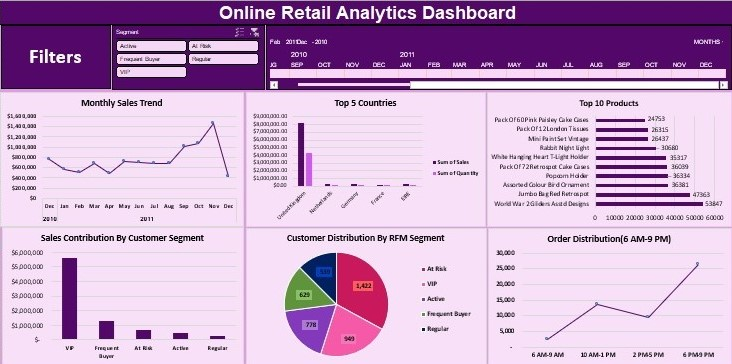

The dashboard page shown, as its layout file describes it:
{"tool":"powerbi","page":{"name":"Page 1","canvas":[1920,1080],"ordinal":0},"visuals":[{"type":"donutChart","title":" ","fields":{"Category":["dim_customer_rfm.customer_segment"],"Y":["Count(dim_customer_rfm.customer_id)"]},"box":[334.3,617.1,711.4,448.6],"z":0},{"type":"shape","box":[18,14,288,1052],"z":1000},{"type":"shape","box":[34,30,272,1036],"z":2000},{"type":"textbox","box":[46,70,248,56],"z":3000},{"type":"shape","box":[48,80,242,90],"z":4000},{"type":"slicer","fields":{"Values":["fact_transactions.invoice_year"]},"box":[54,156,232,100],"z":5000},{"type":"slicer","fields":{"Values":["fact_transactions.time_of_day_bucket"]},"box":[53.9,385.1,231.6,92.9],"z":6000},{"type":"shape","box":[334,14,294,156],"z":7000},{"type":"slicer","fields":{"Values":["fact_transactions.country"]},"box":[53.9,500.9,230.3,99.7],"z":8000},{"type":"lineClusteredColumnComboChart","title":" ","fields":{"Category":["fact_transactions.time_of_day_bucket"],"Y":["Count(fact_transactions.invoice_no)"],"Y2":["Sum(fact_transactions.total_price)"]},"box":[1072.9,617.1,821.4,448.6],"z":9000},{"type":"shape","box":[650.6,12.3,294,156],"z":10000},{"type":"cardVisual","title":"Total Revenue","fields":{"Data":["Sum(fact_transactions.total_price)"]},"box":[344.7,24.2,285,146.8],"z":11000},{"type":"cardVisual","fields":{"Data":["Count(fact_transactions.customer_id)"]},"box":[660.1,25.2,284.2,144.1],"z":12000},{"type":"powerKPI462CE5C2666F4EC8A8BDD7E5587320A3","title":" ","fields":{"Values":["Count(fact_transactions.customer_id)"],"Axis":["fact_transactions.invoice_year_month"]},"box":[334.3,191.4,711.4,405.7],"z":13000},{"type":"textbox","box":[1115.7,628.6,520,32.9],"z":14000},{"type":"shape","box":[1102.9,632.9,12.9,22.9],"z":15000},{"type":"textbox","box":[384.3,628.6,372.9,35.7],"z":16000},{"type":"shape","box":[362.9,632.9,12.9,22.9],"z":17000},{"type":"textbox","box":[377.1,200,387.1,38.6],"z":18000},{"type":"shape","box":[357.1,204.3,12.9,22.9],"z":19000},{"type":"lineChart","title":" ","fields":{"Category":["fact_transactions.invoice_date.Variation.Date Hierarchy.Year","fact_transactions.invoice_date.Variation.Date Hierarchy.Quarter","fact_transactions.invoice_date.Variation.Date Hierarchy.Month","fact_transactions.invoice_date.Variation.Date Hierarchy.Day"],"Y":["Sum(fact_transactions.total_price)"],"Y2":["Sum(fact_transactions.quantity)"]},"box":[1072.9,191.4,821.4,405.7],"z":20000},{"type":"shape","box":[1102.9,205.7,12.9,22.9],"z":21000},{"type":"textbox","box":[1125.7,200,448.6,28.6],"z":22000},{"type":"slicer","fields":{"Values":["dim_customer_rfm.customer_segment"]},"box":[53.9,622.1,230.3,79.5],"z":23000},{"type":"shape","box":[966.9,12,293.9,155.6],"z":24000},{"type":"shape","box":[1284.8,12,293.9,155.6],"z":25000},{"type":"shape","box":[1601.4,12,293.9,155.6],"z":26000},{"type":"slicer","fields":{"Values":["fact_transactions.invoice_month"]},"box":[53.9,270.7,231.6,99.7],"z":27000},{"type":"cardVisual","title":"Total Revenue","fields":{"Data":["Avg(dim_customer_rfm.monetary)"]},"box":[976.3,21.5,284.1,148.1],"z":28000},{"type":"cardVisual","title":"Total Revenue","fields":{"Data":["Avg(dim_customer_rfm.frequency)"]},"box":[1294.1,21.5,284.1,148.1],"z":29000},{"type":"cardVisual","title":"Total Revenue","fields":{"Data":["Avg(dim_customer_rfm.recency_days)"]},"box":[1610.6,21.5,284.1,149.5],"z":30000},{"type":"actionButton","box":[57.9,914.4,222.2,53.9],"z":31000},{"type":"image","box":[704.3,90.2,52.5,47.1],"z":32000},{"type":"image","box":[369,88.9,33.7,47.1],"z":33000},{"type":"image","box":[1331.8,84.8,68.7,59.3],"z":34000},{"type":"image","box":[1005.9,92.9,70,48.5],"z":35000},{"type":"image","box":[1638.9,84.8,102.3,70],"z":36000},{"type":"image","box":[166,974,98,82],"z":37000},{"type":"image","box":[68,968,102,92],"z":38000}]}

Visuals, with their boxes on the page's 1920x1080 design canvas (x1, y1, x2, y2). These are canvas units, not pixel positions in the 732x364 screenshot, which may show the page scaled, cropped or inside an application window:
" " donutChart: {"left": 334, "top": 617, "right": 1046, "bottom": 1066}
shape: {"left": 18, "top": 14, "right": 306, "bottom": 1066}
shape: {"left": 34, "top": 30, "right": 306, "bottom": 1066}
textbox: {"left": 46, "top": 70, "right": 294, "bottom": 126}
shape: {"left": 48, "top": 80, "right": 290, "bottom": 170}
slicer - fact_transactions.invoice_year: {"left": 54, "top": 156, "right": 286, "bottom": 256}
slicer - fact_transactions.time_of_day_bucket: {"left": 54, "top": 385, "right": 286, "bottom": 478}
shape: {"left": 334, "top": 14, "right": 628, "bottom": 170}
slicer - fact_transactions.country: {"left": 54, "top": 501, "right": 284, "bottom": 601}
" " lineClusteredColumnComboChart: {"left": 1073, "top": 617, "right": 1894, "bottom": 1066}
shape: {"left": 651, "top": 12, "right": 945, "bottom": 168}
"Total Revenue" cardVisual: {"left": 345, "top": 24, "right": 630, "bottom": 171}
cardVisual - Count(fact_transactions.customer_id): {"left": 660, "top": 25, "right": 944, "bottom": 169}
" " powerKPI462CE5C2666F4EC8A8BDD7E5587320A3: {"left": 334, "top": 191, "right": 1046, "bottom": 597}
textbox: {"left": 1116, "top": 629, "right": 1636, "bottom": 662}
shape: {"left": 1103, "top": 633, "right": 1116, "bottom": 656}
textbox: {"left": 384, "top": 629, "right": 757, "bottom": 664}
shape: {"left": 363, "top": 633, "right": 376, "bottom": 656}
textbox: {"left": 377, "top": 200, "right": 764, "bottom": 239}
shape: {"left": 357, "top": 204, "right": 370, "bottom": 227}
" " lineChart: {"left": 1073, "top": 191, "right": 1894, "bottom": 597}
shape: {"left": 1103, "top": 206, "right": 1116, "bottom": 229}
textbox: {"left": 1126, "top": 200, "right": 1574, "bottom": 229}
slicer - dim_customer_rfm.customer_segment: {"left": 54, "top": 622, "right": 284, "bottom": 702}
shape: {"left": 967, "top": 12, "right": 1261, "bottom": 168}
shape: {"left": 1285, "top": 12, "right": 1579, "bottom": 168}
shape: {"left": 1601, "top": 12, "right": 1895, "bottom": 168}
slicer - fact_transactions.invoice_month: {"left": 54, "top": 271, "right": 286, "bottom": 370}
"Total Revenue" cardVisual: {"left": 976, "top": 22, "right": 1260, "bottom": 170}
"Total Revenue" cardVisual: {"left": 1294, "top": 22, "right": 1578, "bottom": 170}
"Total Revenue" cardVisual: {"left": 1611, "top": 22, "right": 1895, "bottom": 171}
actionButton: {"left": 58, "top": 914, "right": 280, "bottom": 968}
image: {"left": 704, "top": 90, "right": 757, "bottom": 137}
image: {"left": 369, "top": 89, "right": 403, "bottom": 136}
image: {"left": 1332, "top": 85, "right": 1400, "bottom": 144}
image: {"left": 1006, "top": 93, "right": 1076, "bottom": 141}
image: {"left": 1639, "top": 85, "right": 1741, "bottom": 155}
image: {"left": 166, "top": 974, "right": 264, "bottom": 1056}
image: {"left": 68, "top": 968, "right": 170, "bottom": 1060}
